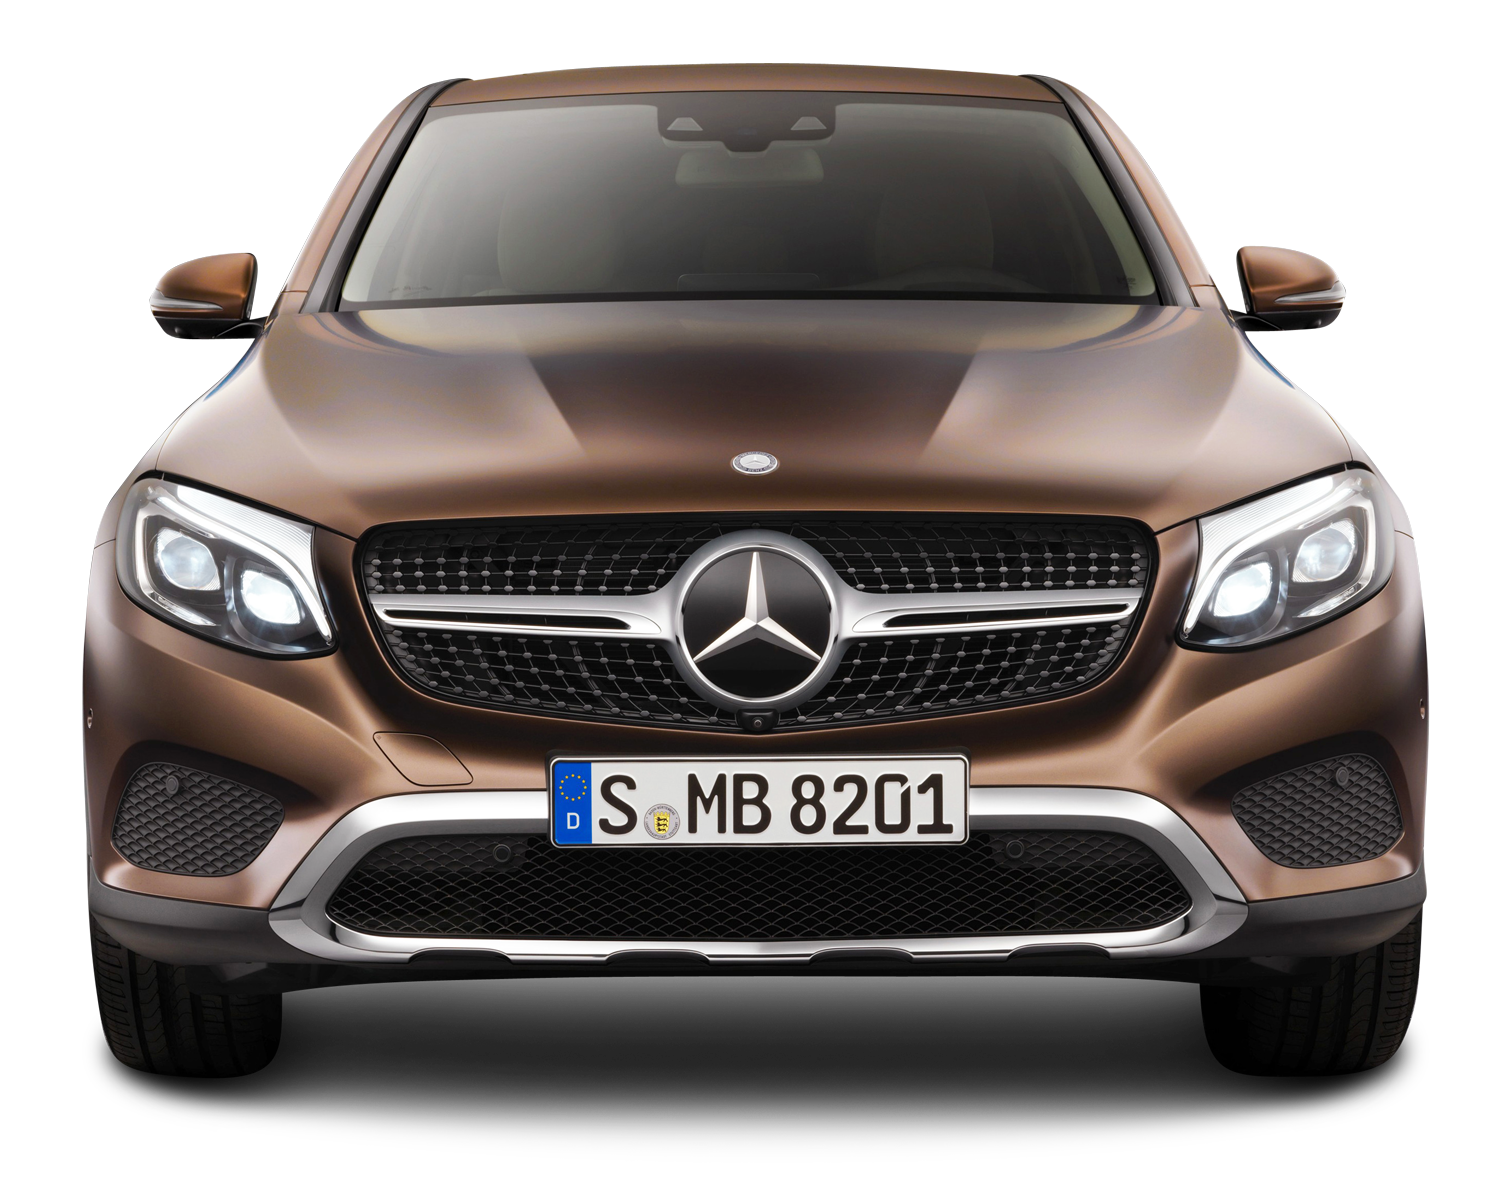P1_: (968, 760, 989, 774)
bbox: (549, 752, 972, 847)
